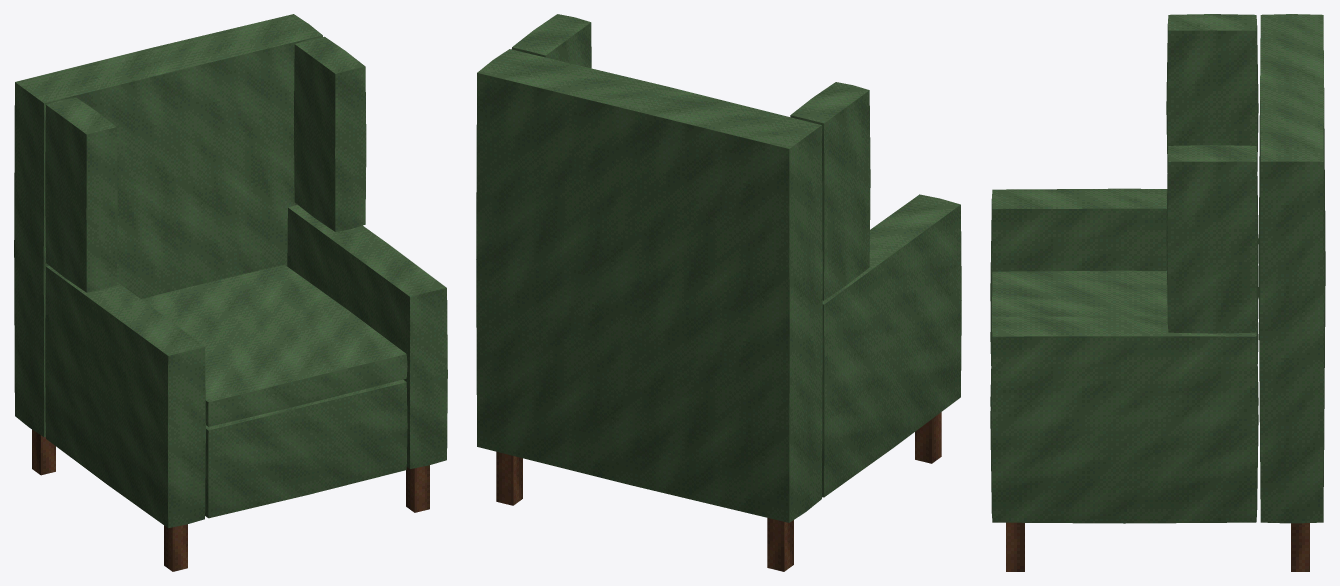
File: armchair.glb
3 views of the same model, side by side, from view 1: azimuth 30°, elevation 25°; view 2: azimuth 150°, elevation 25°; view 3: azimuth 270°, elevation 25° (orthographic). The views are drawn at different scales.
Parts seen in each view (by area): view 1: back, arm_L, seat, base, arm_R, wing_L, wing_R, leg (×3); view 2: back, arm_L, wing_L, leg (×3), wing_R; view 3: arm_R, back, wing_R, arm_L, wing_L, seat, leg (×2).
Boxes of the visible parts, box(x1,y1,x2,y2) form: back: box(14, 14, 322, 437); arm_L: box(45, 265, 205, 528); seat: box(141, 264, 407, 426); base: box(205, 379, 407, 518); arm_R: box(287, 204, 447, 468); wing_L: box(45, 97, 117, 292); wing_R: box(294, 36, 366, 231); leg (×3): box(32, 429, 429, 571); back: box(476, 49, 822, 522); arm_L: box(822, 194, 961, 497); wing_L: box(790, 82, 870, 300); leg (×3): box(496, 412, 941, 571); wing_R: box(511, 14, 591, 68); arm_R: box(990, 316, 1258, 523); back: box(1258, 14, 1325, 523); wing_R: box(1166, 145, 1258, 333); arm_L: box(990, 188, 1258, 319); wing_L: box(1166, 14, 1258, 173); seat: box(990, 270, 1258, 365); leg (×2): box(1006, 522, 1309, 571).
Size of the model in its own units: 0.84 by 1.1 by 0.8.
Materials: 2 (2 with a texture image).
